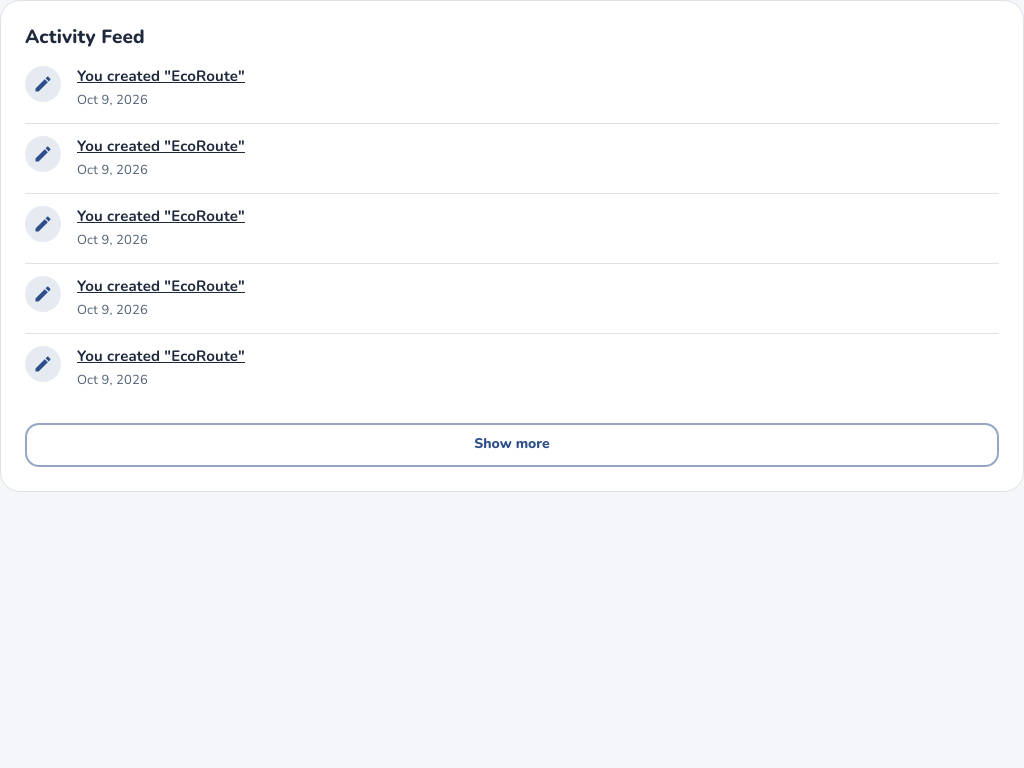
ActivityFeed › a failed Show more says so and keeps the list
Click the button "Show more".
click(512, 445)  # box top-left (25, 423), bottom-right (999, 467)
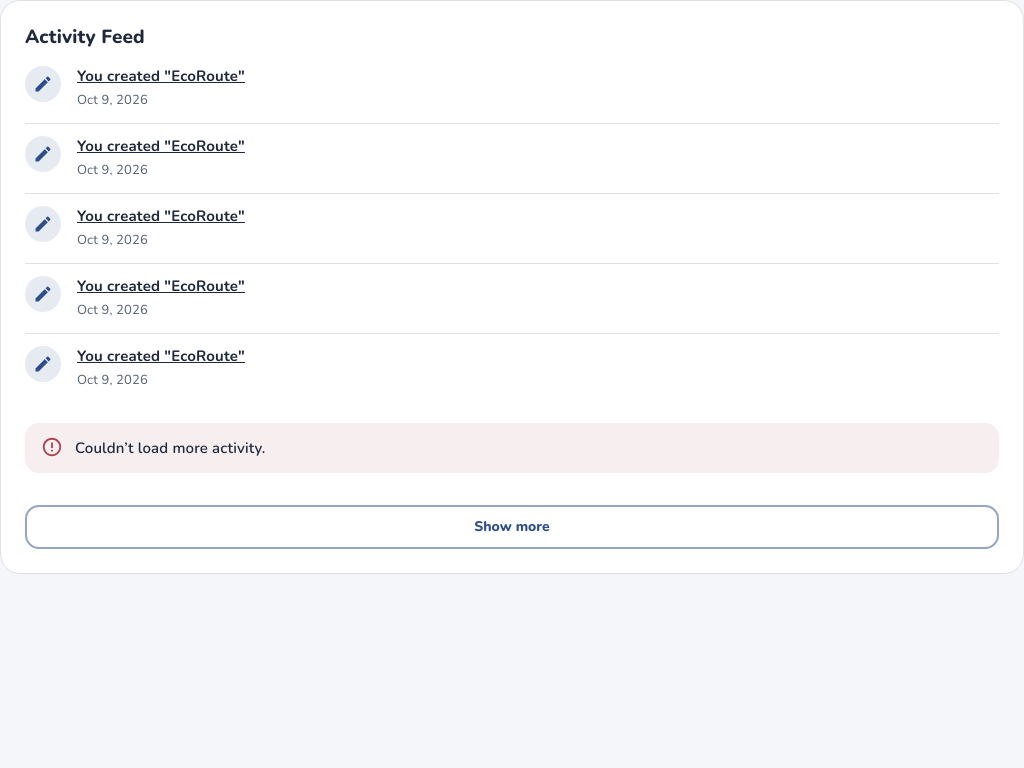
expect the number of list items is 5: met, box top-left (25, 66), bottom-right (245, 109); top-left (25, 123), bottom-right (999, 193); top-left (25, 193), bottom-right (999, 263); top-left (25, 263), bottom-right (999, 333); top-left (25, 333), bottom-right (999, 391)
expect the message reads "Couldn’t load more activity.": met, box top-left (75, 438), bottom-right (265, 458)
